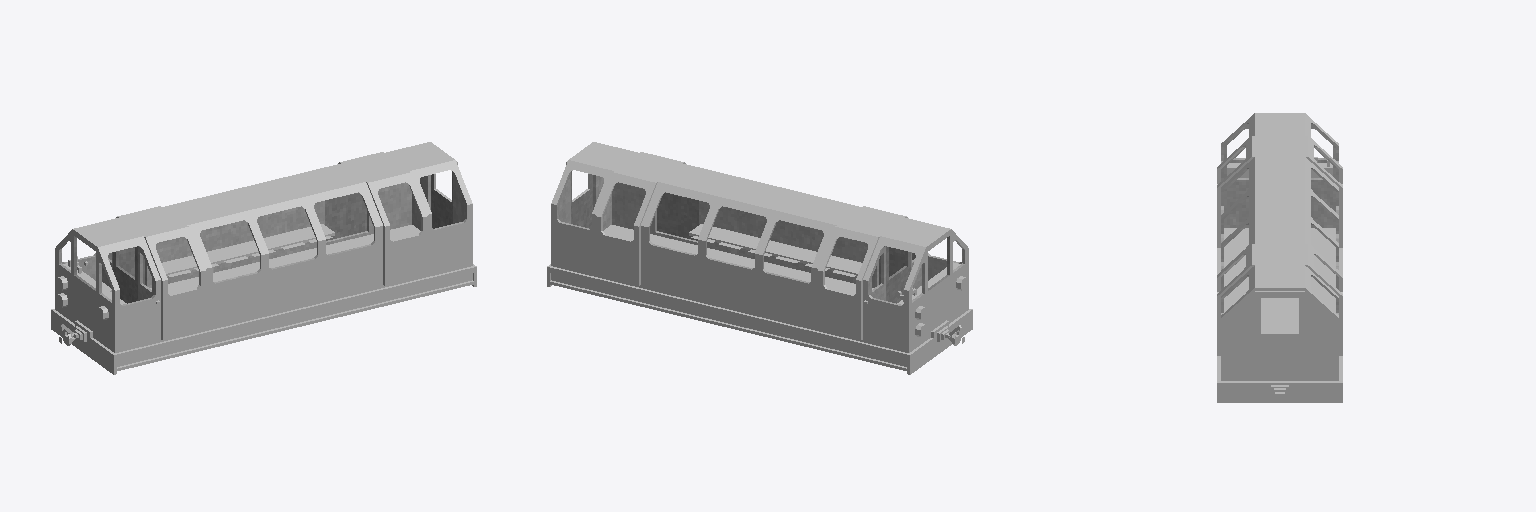
The picture shows the model from 3 angles: view 1: azimuth 30°, elevation 25°; view 2: azimuth 150°, elevation 25°; view 3: azimuth 270°, elevation 25°; orthographic projection.
Visible parts, largest first — view 1: FRAME_0_body, FRAME_0_body.001, DOOR_2_EXTERNAL_NOTOUCH_CG_leftdoor_TL_-1_X, DOOR_1_EXTERNAL_NOTOUCH_CG_leftdoor_TL_1_X, FRAME_3, FRAME_2, FRAME_1, FRAME_end1, DOOR_4_NOTOUCH_CG_rightdoor_TL_-1_X, DOOR_6_CONNECTING_NOTOUCH, DOOR_5_CONNECTING_TOGGLE_HIDE, DOOR_7 (+1 smaller); view 2: FRAME_0_body, FRAME_0_body.001, DOOR_4_NOTOUCH_CG_rightdoor_TL_-1_X, DOOR_3_NOTOUCH_CG_rightdoor_TL_1_X, FRAME_3, FRAME_2, FRAME_1, FRAME_end1, DOOR_2_EXTERNAL_NOTOUCH_CG_leftdoor_TL_-1_X, DOOR_6_CONNECTING_NOTOUCH, DOOR_5_CONNECTING_TOGGLE_HIDE, DOOR_7 (+1 smaller); view 3: FRAME_0_body, FRAME_0_body.001, DOOR_5_CONNECTING_TOGGLE_HIDE, FRAME_end2, FRAME_2, DOOR_4_NOTOUCH_CG_rightdoor_TL_-1_X, DOOR_2_EXTERNAL_NOTOUCH_CG_leftdoor_TL_-1_X, DOOR_3_NOTOUCH_CG_rightdoor_TL_1_X, DOOR_1_EXTERNAL_NOTOUCH_CG_leftdoor_TL_1_X, FRAME_3.
Part boxes in pixels (x1,y1,x2,y2): FRAME_0_body: (55, 142, 472, 352); FRAME_0_body.001: (59, 172, 466, 305); DOOR_2_EXTERNAL_NOTOUCH_CG_leftdoor_TL_-1_X: (366, 171, 427, 285); DOOR_1_EXTERNAL_NOTOUCH_CG_leftdoor_TL_1_X: (144, 226, 205, 339); FRAME_3: (288, 229, 450, 314); FRAME_2: (185, 255, 346, 339); FRAME_1: (138, 280, 243, 365); FRAME_end1: (51, 309, 139, 374); DOOR_4_NOTOUCH_CG_rightdoor_TL_-1_X: (325, 152, 383, 240); DOOR_6_CONNECTING_NOTOUCH: (73, 232, 97, 331); DOOR_5_CONNECTING_TOGGLE_HIDE: (431, 161, 457, 228); DOOR_7: (113, 246, 137, 303); FRAME_0_body: (551, 142, 968, 352); FRAME_0_body.001: (557, 172, 964, 305); DOOR_4_NOTOUCH_CG_rightdoor_TL_-1_X: (596, 171, 657, 285); DOOR_3_NOTOUCH_CG_rightdoor_TL_1_X: (818, 226, 879, 339); FRAME_3: (573, 229, 735, 314); FRAME_2: (677, 255, 838, 339); FRAME_1: (780, 280, 885, 365); FRAME_end1: (884, 309, 972, 374); DOOR_2_EXTERNAL_NOTOUCH_CG_leftdoor_TL_-1_X: (640, 152, 698, 240); DOOR_6_CONNECTING_NOTOUCH: (926, 232, 950, 330); DOOR_5_CONNECTING_TOGGLE_HIDE: (566, 161, 592, 228); DOOR_7: (886, 246, 910, 303); FRAME_0_body: (1221, 113, 1338, 380); FRAME_0_body.001: (1221, 123, 1338, 314); DOOR_5_CONNECTING_TOGGLE_HIDE: (1255, 291, 1304, 373); FRAME_end2: (1217, 370, 1342, 402); FRAME_2: (1217, 269, 1342, 318); DOOR_4_NOTOUCH_CG_rightdoor_TL_-1_X: (1305, 244, 1342, 355); DOOR_2_EXTERNAL_NOTOUCH_CG_leftdoor_TL_-1_X: (1217, 244, 1254, 355); DOOR_3_NOTOUCH_CG_rightdoor_TL_1_X: (1305, 136, 1342, 247); DOOR_1_EXTERNAL_NOTOUCH_CG_leftdoor_TL_1_X: (1217, 136, 1254, 247); FRAME_3: (1217, 319, 1342, 369).
Size of the model in its own units: 9 by 2.62 by 2.5.
6 materials, 1 textured.